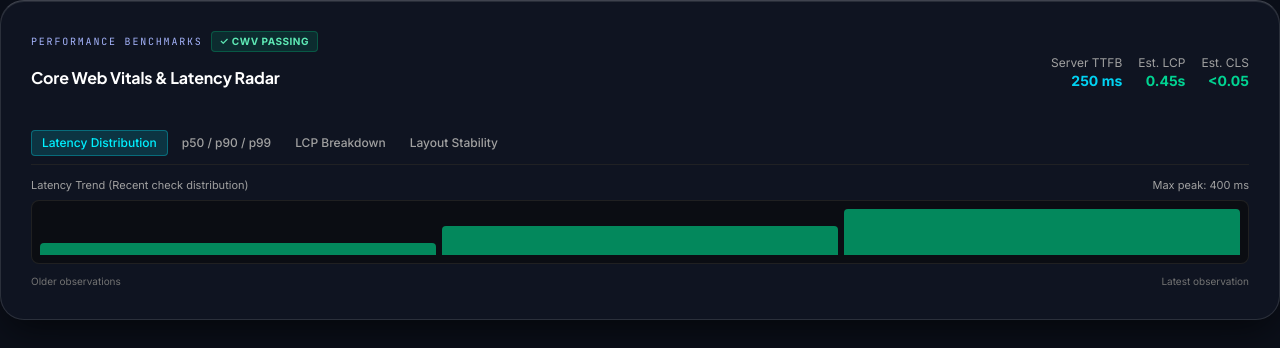
WebVitalsTrend component and helpers › switches to Percentiles tab and shows p50, p90, p99
Click the button "p50 / p90 / p99" at (226, 143), box 172,131 -> 281,155
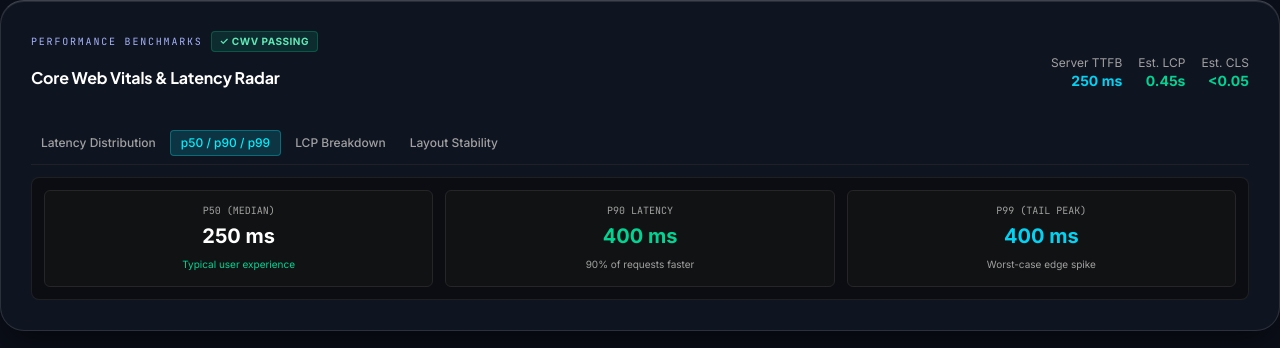
Check: the text "p50 (Median)" is shown, box 203,204 -> 275,217
Check: the text "p90 Latency" is shown, box 607,204 -> 673,217
Check: the text "p99 (Tail Peak)" is shown, box 996,204 -> 1086,217
